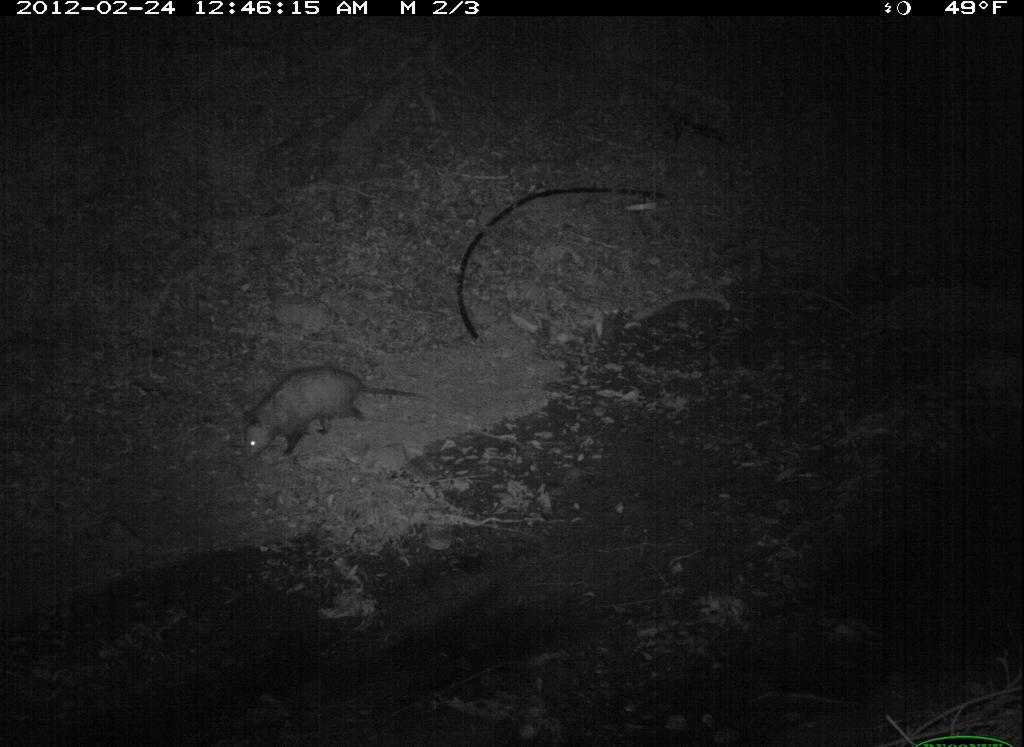opossum: (230, 360, 434, 468)
